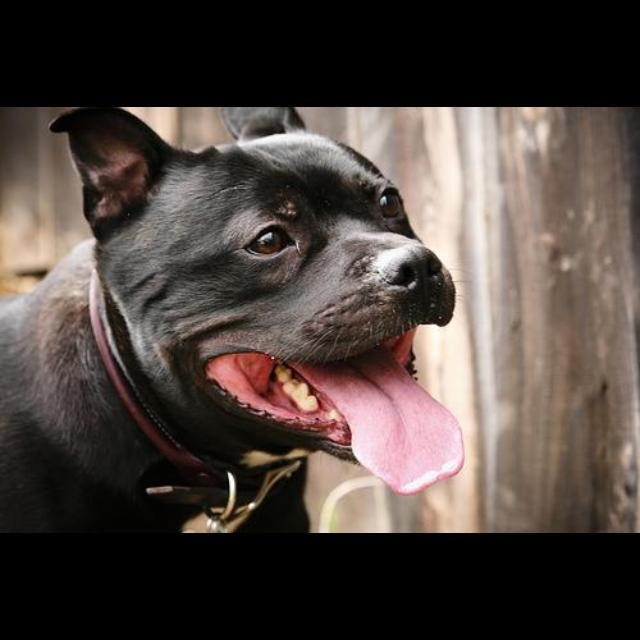staffford: (1, 108, 465, 532)
